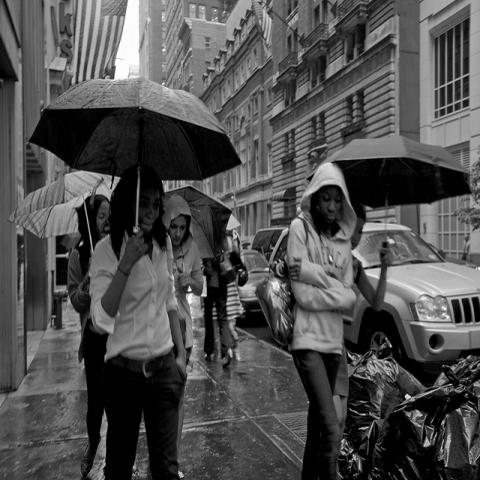car: (344, 221, 480, 374), (237, 248, 270, 326), (250, 225, 290, 261)
